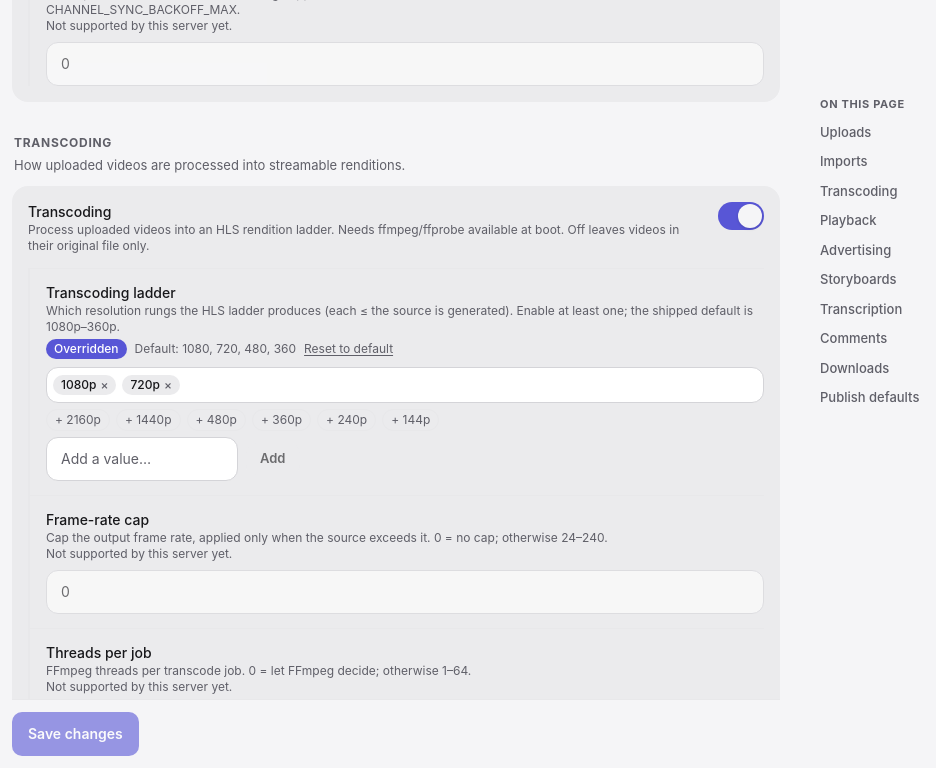
transcoding ladder list control (config-parity W1/W10) › blocks saving when the server rejects an emptied ladder
The width and height of the screenshot is (936, 768).
(page scrolled)
Click the button named "Remove 1080p". click: (104,384)
box: x1=100 y1=378 x2=108 y2=390
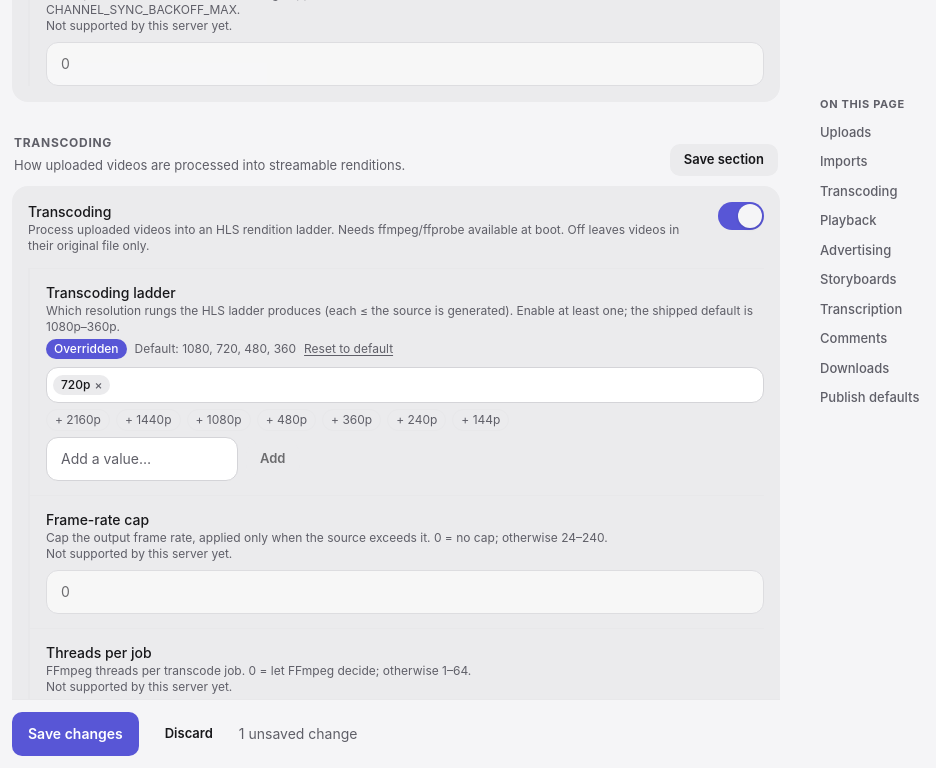
Click the button named "Remove 720p". click: (98,384)
box: x1=94 y1=378 x2=102 y2=390
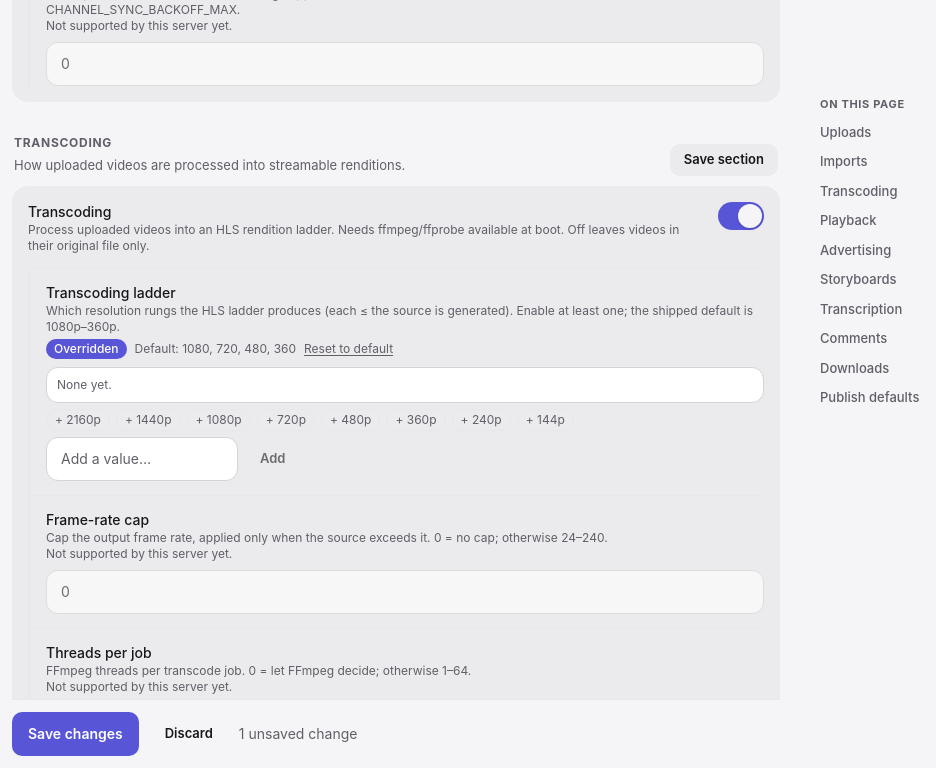
Leave the element named "Transcoding ladder", box x1=46 y1=366 x2=764 y2=402
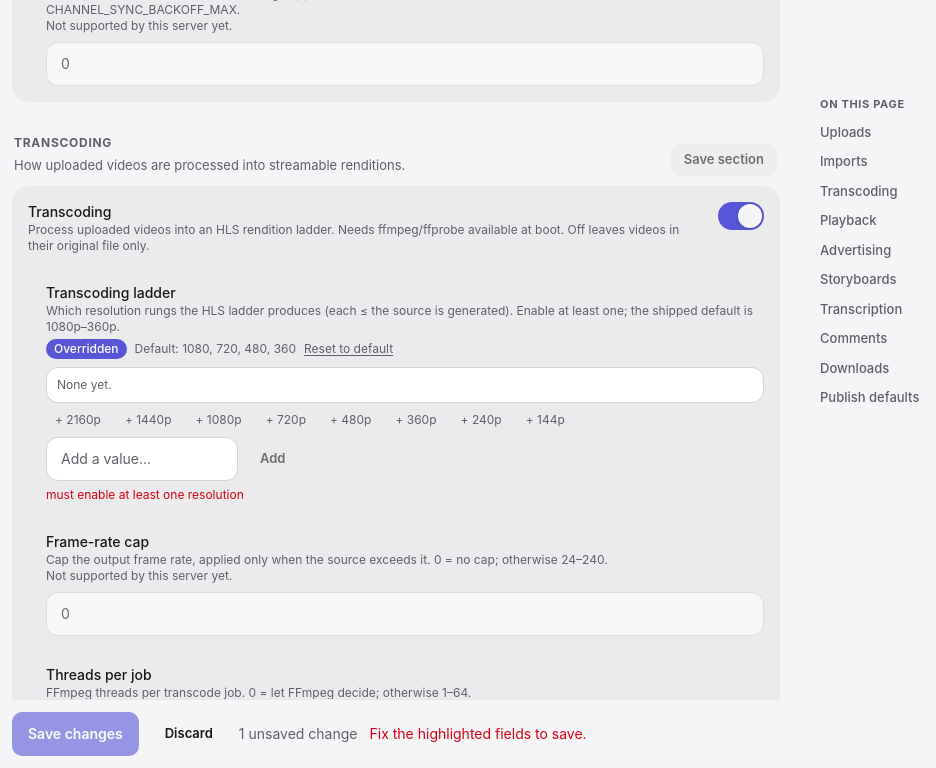
Expected: the text "must enable at least one resolution" is shown, x1=46 y1=486 x2=244 y2=502
Expected: the button "Save changes" is disabled, x1=12 y1=712 x2=139 y2=756
